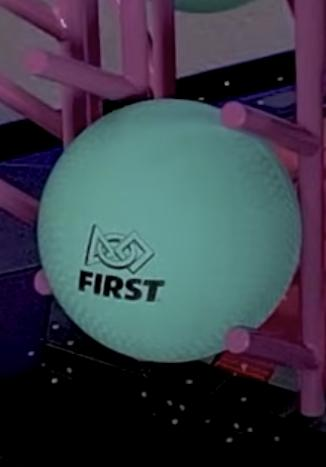algae: (40, 100, 298, 363), (174, 0, 253, 14)
